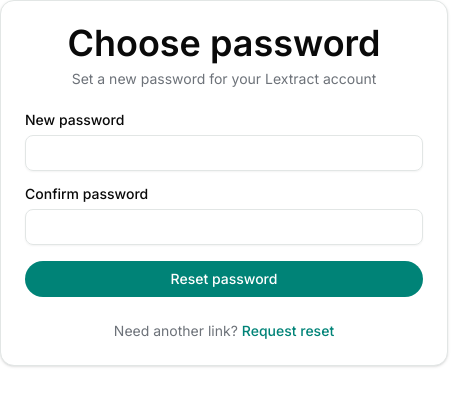
Test: ResetPasswordForm › blocks submission when the reset token is missing
Type "new-password-123" into the password field labelled "New password". click: (224, 153)
box: [25,135,423,171]
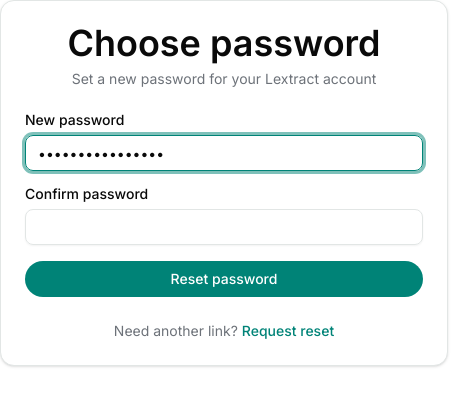
Type "new-password-123" into the password field labelled "Confirm password". click: (224, 227)
box: [25,209,423,245]
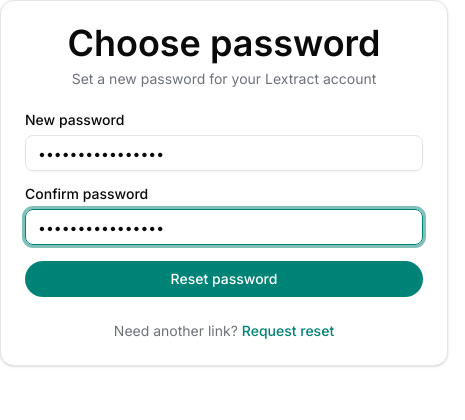
Click the button "Reset password". click: (224, 279)
box: [25,261,423,297]
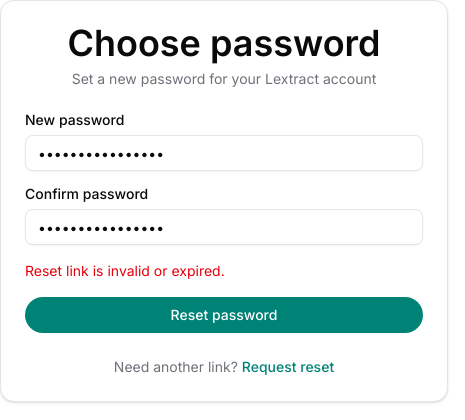
Expected: the message reads "Reset link is invalid or expired.", [25,262,225,279]
